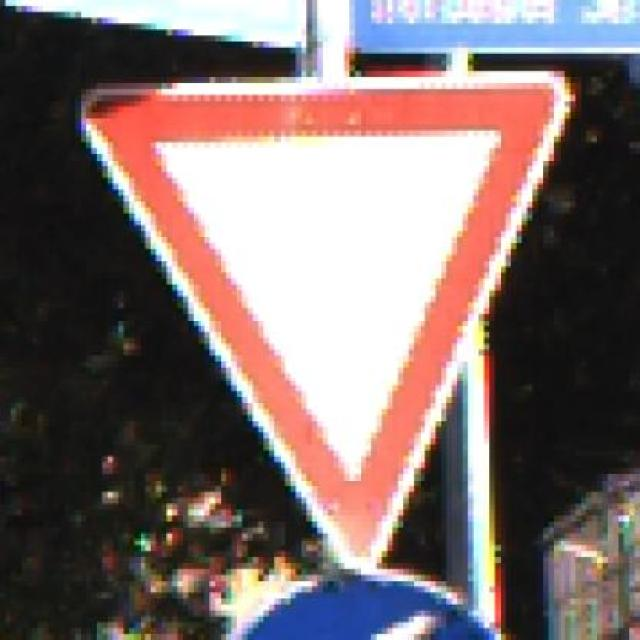Give Way: (53, 58, 613, 592)
